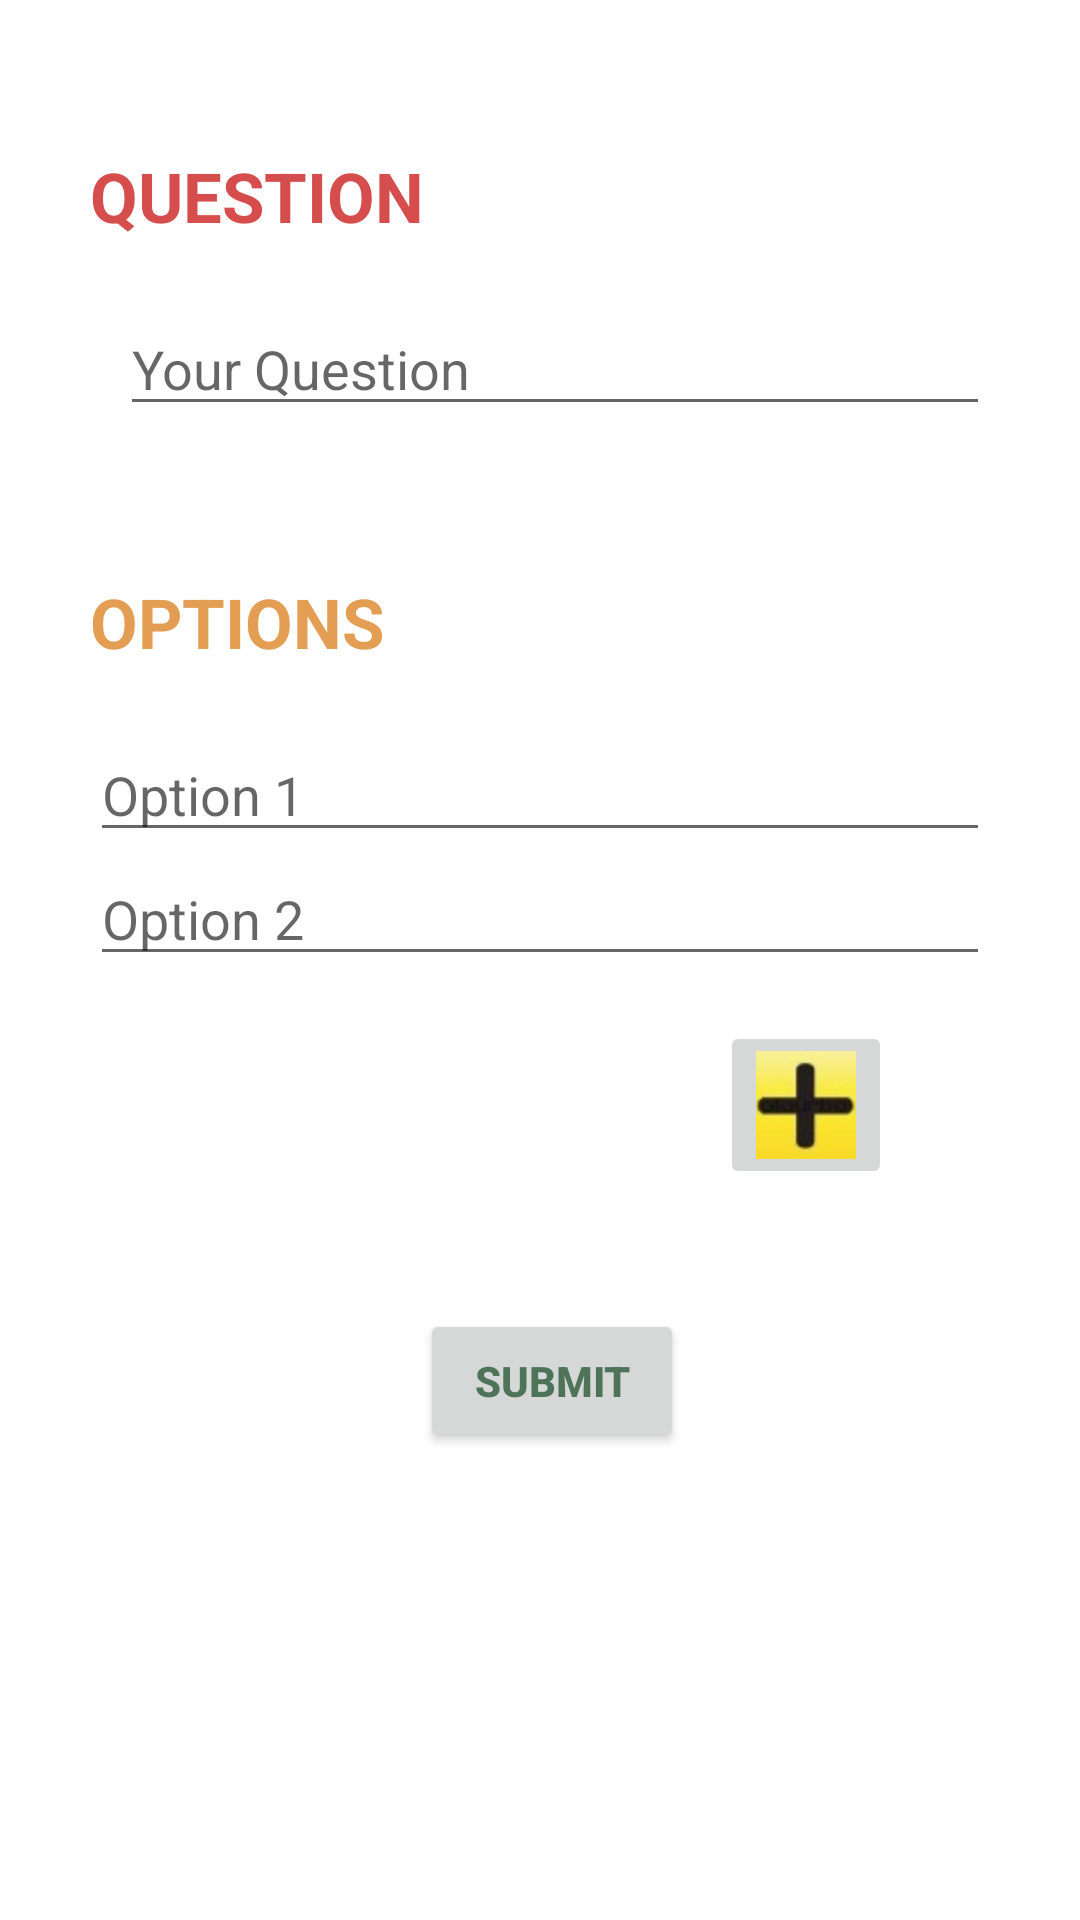

Where to tap for icons on this 1080px x 1920px app screen, as (x=x, y=y):
add option: (x=806, y=1105)
